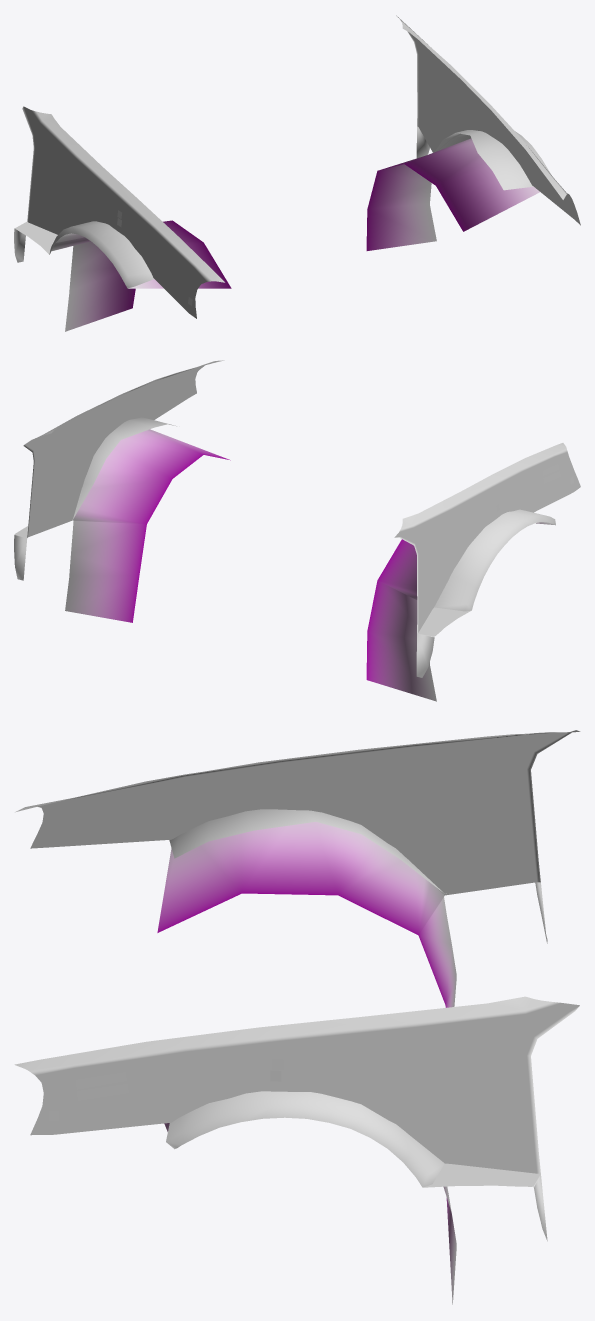
Rendered from Car_Nissan_SkylineGTRVspecR34_1999_FendersChassisF_SetE.fbx.
The picture shows the model from 3 angles, top to bottom: view 1: azimuth 30°, elevation 25°; view 2: azimuth 150°, elevation 25°; view 3: azimuth 270°, elevation 25°; orthographic projection. The views are drawn at different scales.
Visible parts, largest first — view 1: FendersChassisF 6; view 2: FendersChassisF 6; view 3: FendersChassisF 6.
Part boxes in pixels (x1,y1,x2,y2): FendersChassisF 6: (14,15,580,331); FendersChassisF 6: (14,360,580,701); FendersChassisF 6: (14,730,580,1304).
Bounding box in the file's own units: 1.73 × 0.7629 × 1.3.
